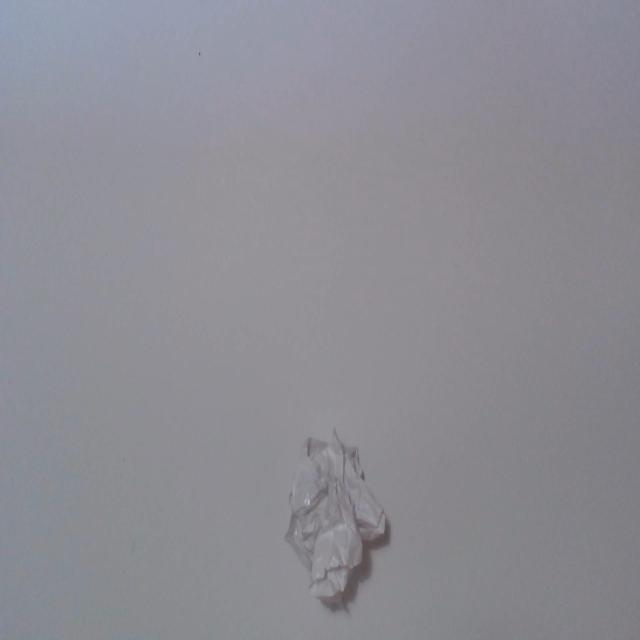Paper: (295, 421, 391, 595)
